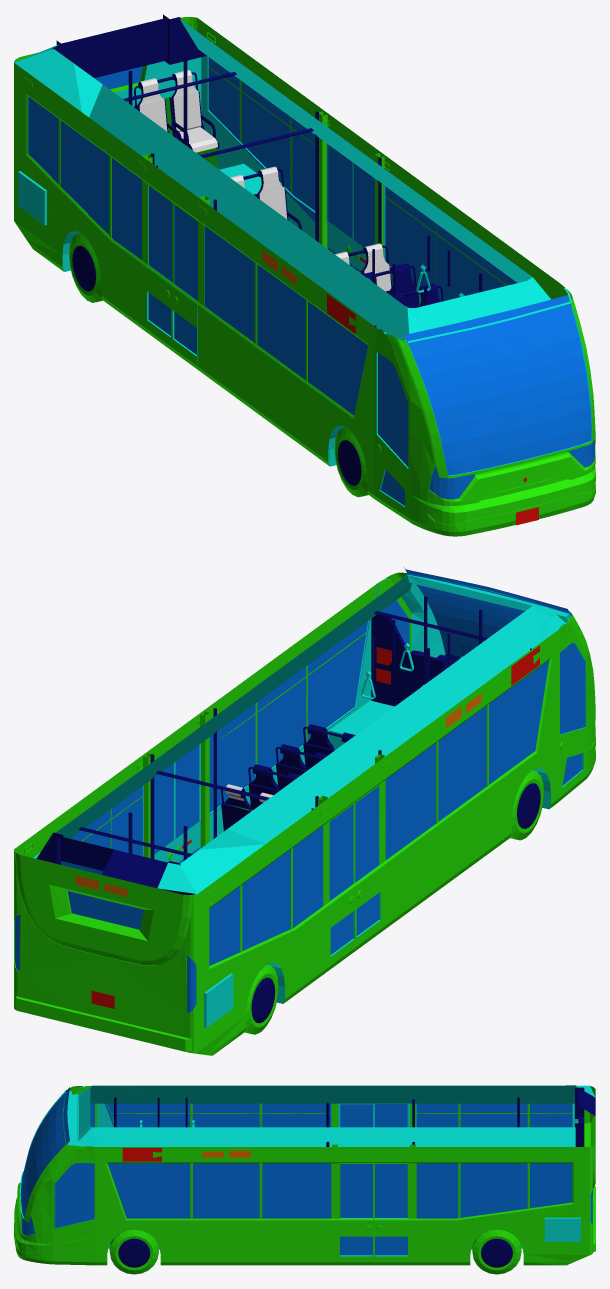
File: bus1.fbx
3 renders of one model, top to bottom at view 1: azimuth 30°, elevation 25°; view 2: azimuth 150°, elevation 25°; view 3: azimuth 270°, elevation 25°, orthographic. The views are drawn at different scales.
Parts seen in each view (by area): view 1: YMRFMYZHK5TIVJV6I70JHFGRP; view 2: YMRFMYZHK5TIVJV6I70JHFGRP; view 3: YMRFMYZHK5TIVJV6I70JHFGRP.
Boxes of the visible parts, x1=… form: YMRFMYZHK5TIVJV6I70JHFGRP: x1=14, y1=14, x2=595, y2=536; YMRFMYZHK5TIVJV6I70JHFGRP: x1=14, y1=567, x2=595, y2=1055; YMRFMYZHK5TIVJV6I70JHFGRP: x1=14, y1=1085, x2=595, y2=1274.
Bounding box in the file's own units: 63.86 × 66.39 × 250.
